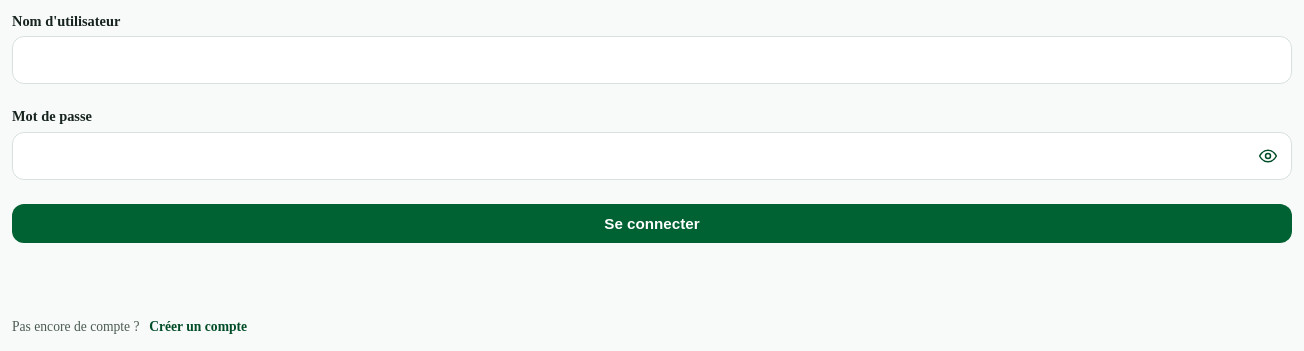
Test: LoginForm › sends only username and password to the login API, once, and redirects to the connected space
In the field labelled "Nom d'utilisateur": (652, 60) [12, 36, 1292, 84], type "jean-dupont_92"
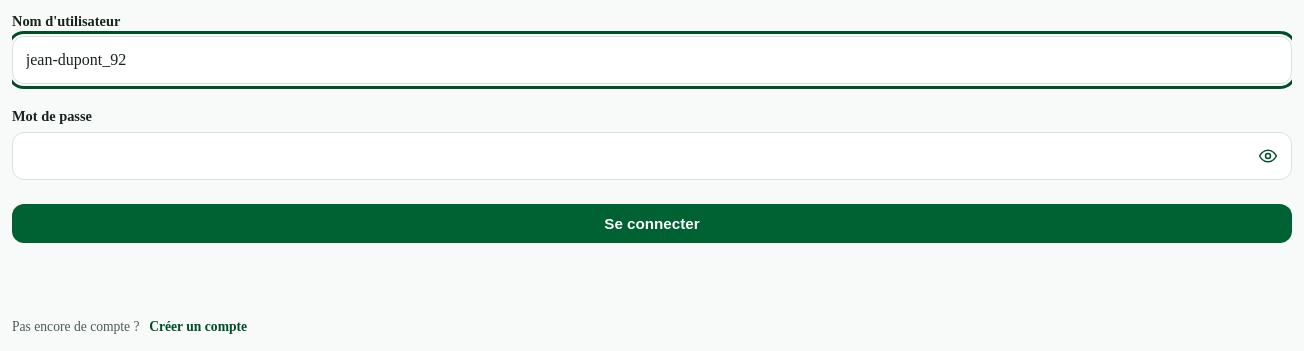
In the password field labelled "Mot de passe": (652, 156) [12, 132, 1292, 180], type "une phrase de passe suffisamment longue"
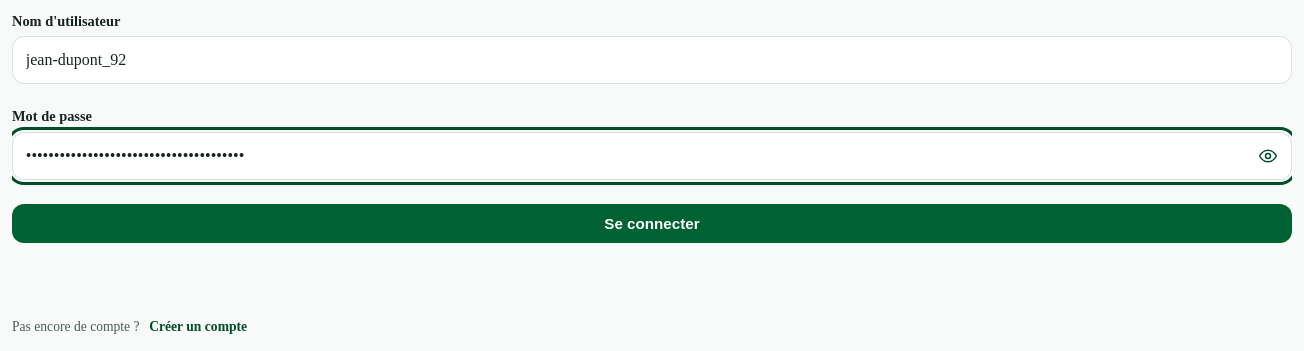
Click the button "Se connecter": (652, 224) [12, 204, 1292, 243]
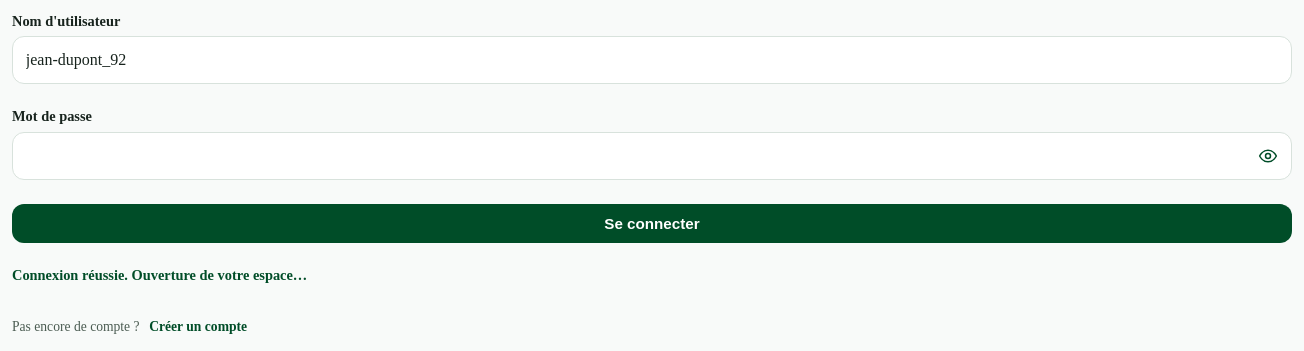
Check: the text "Connexion réussie. Ouverture de votre espace…" is shown, box [12, 267, 307, 283]
Check: the password field labelled "Mot de passe" is empty, box [12, 132, 1292, 180]
